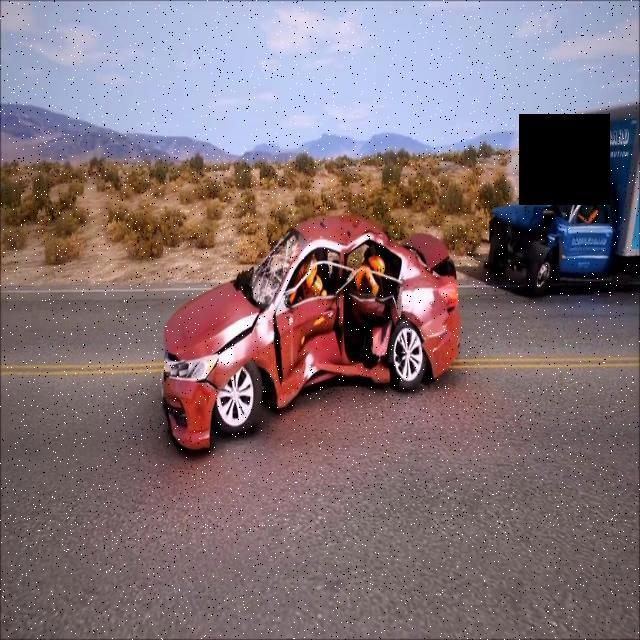severe: (154, 206, 466, 459)
